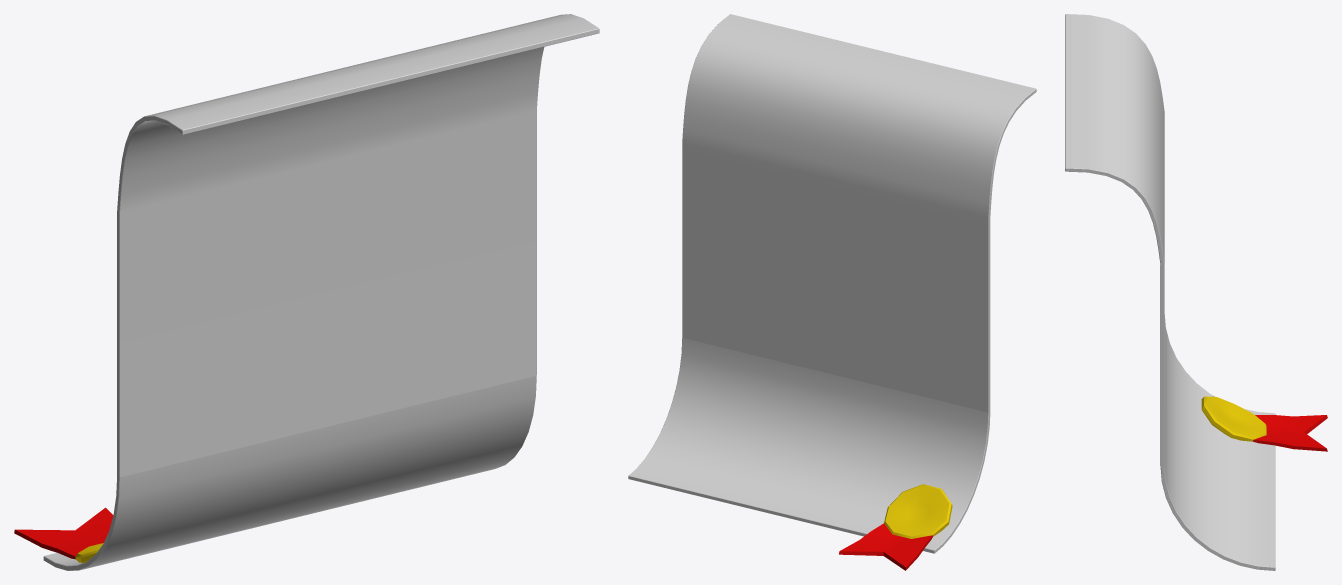
File: M_Wallrun_Document_02.fbx
3 renders of one model, left to right at view 1: azimuth 30°, elevation 25°; view 2: azimuth 150°, elevation 25°; view 3: azimuth 270°, elevation 25°, orthographic. The views are drawn at different scales.
Visible parts, largest first — view 1: Document, Seal; view 2: Document, Seal; view 3: Document, Seal.
Part boxes in pixels (<box>): Document: <box>43,14,599,570</box>; Seal: <box>14,507,113,563</box>; Document: <box>628,14,1036,553</box>; Seal: <box>839,484,952,570</box>; Document: <box>1065,14,1275,570</box>; Seal: <box>1201,396,1327,451</box>.
Bounding box in the file's own units: 10.13 × 12.36 × 7.29.
